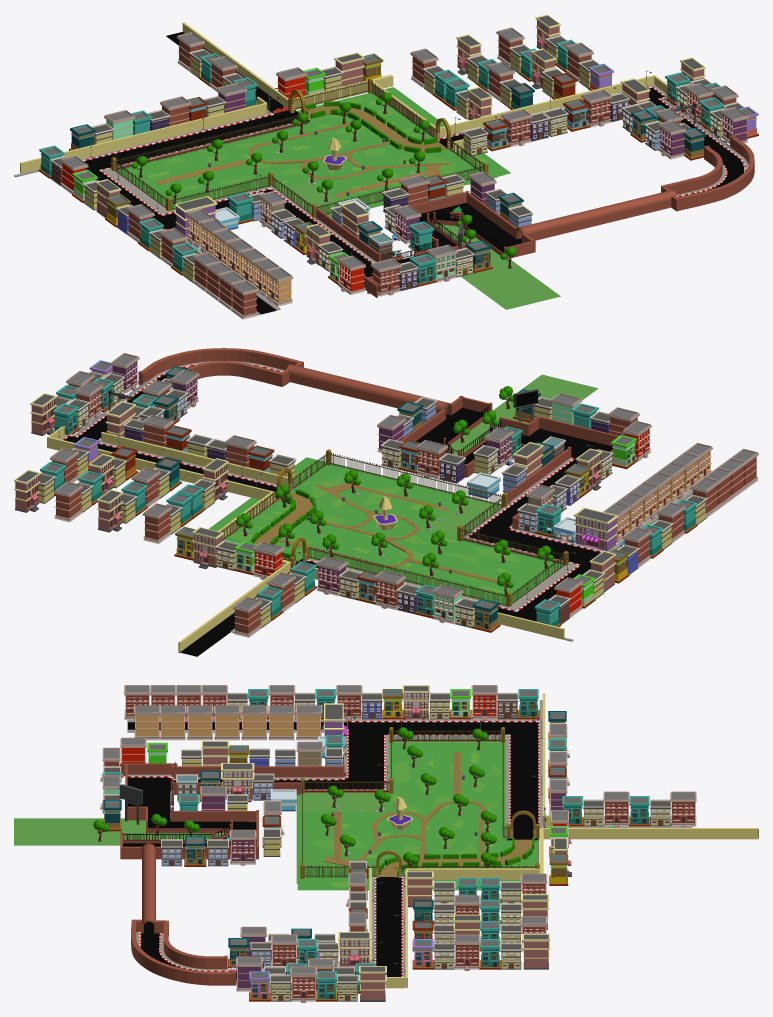
The model's file is track.glb.
3 renders of one model, top to bottom at view 1: azimuth 30°, elevation 25°; view 2: azimuth 150°, elevation 25°; view 3: azimuth 270°, elevation 25°, orthographic. The views are drawn at different scales.
Parts seen in each view (by area): view 1: Plane.003, Cube.006, Spiked_Fence, Plane.008, Cube.010, Cube.070, Cube.114, Cube.043, Cube.052, Cube.182, Plane.007, Cube.183 (+64 smaller); view 2: Plane.003, Cube.006, Spiked_Fence, Cube.010, Cube.182, Plane.008, Cube.043, Cube.046, Cube.098, Cube.183, Cube.114, Cube.107 (+75 smaller); view 3: Plane.003, Cube.006, Spiked_Fence, Plane.008, Cube.052, Cube.182, Cube.114, Plane, Cube.043, Cube.096, Cube.183, Cube.010 (+67 smaller).
Boxes of the visible parts, x1,y1,x2,y2 form: Plane.003: (117, 87, 510, 210); Cube.006: (84, 88, 744, 277); Spiked_Fence: (115, 80, 503, 260); Plane.008: (435, 224, 560, 309); Cube.010: (515, 190, 676, 242); Cube.070: (20, 96, 267, 173); Cube.114: (315, 190, 516, 261); Cube.043: (372, 75, 655, 137); Cube.052: (182, 22, 393, 109); Cube.182: (671, 135, 754, 211); Plane.007: (156, 122, 434, 197); Cube.183: (661, 145, 722, 194); Plane.003: (209, 457, 562, 606); Cube.006: (64, 367, 612, 621); Spiked_Fence: (220, 406, 567, 605); Cube.010: (286, 364, 452, 419); Cube.182: (138, 348, 303, 385); Plane.008: (449, 374, 598, 455); Cube.043: (47, 436, 275, 540); Cube.046: (101, 432, 294, 488); Cube.098: (573, 507, 618, 550); Cube.183: (187, 361, 289, 386); Cube.114: (399, 409, 571, 503); Cube.107: (499, 416, 618, 446); Plane.003: (297, 743, 537, 890); Cube.006: (123, 722, 538, 980); Spiked_Fence: (123, 729, 538, 877); Plane.008: (14, 818, 226, 845); Cube.052: (539, 828, 758, 873); Cube.182: (131, 919, 236, 985); Cube.114: (156, 781, 300, 859); Plane: (296, 741, 505, 883); Cube.043: (405, 868, 538, 988); Cube.096: (172, 764, 344, 777); Cube.183: (154, 920, 227, 969); Cube.010: (142, 843, 155, 933).
Bounding box in the file's own units: 289 × 18.18 × 303.
Materials: 156 (1 with a texture image).
